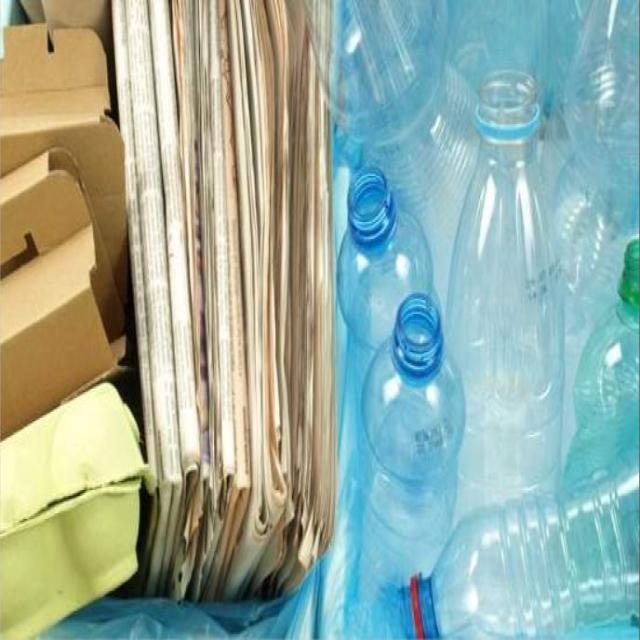dry: (108, 0, 341, 597), (445, 60, 568, 537), (409, 464, 640, 640), (355, 291, 467, 632), (0, 144, 125, 445), (338, 164, 441, 372), (0, 20, 118, 148), (105, 606, 106, 609)
